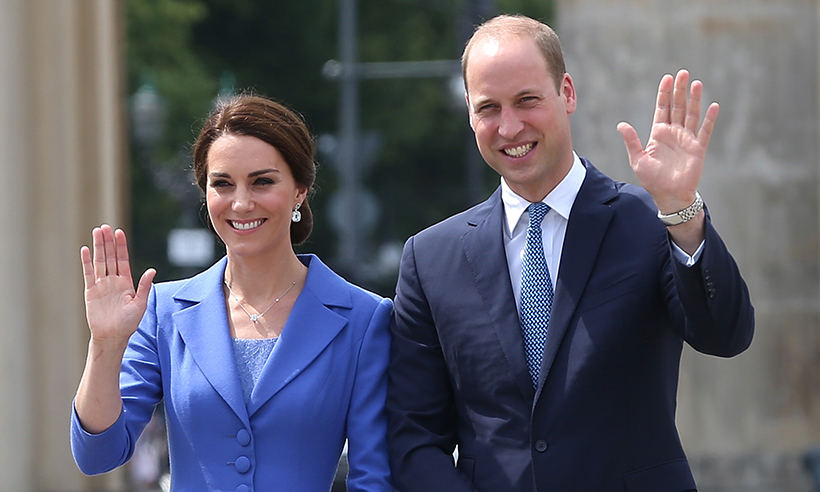open_hand: (597, 62, 734, 212), (61, 213, 193, 361)
